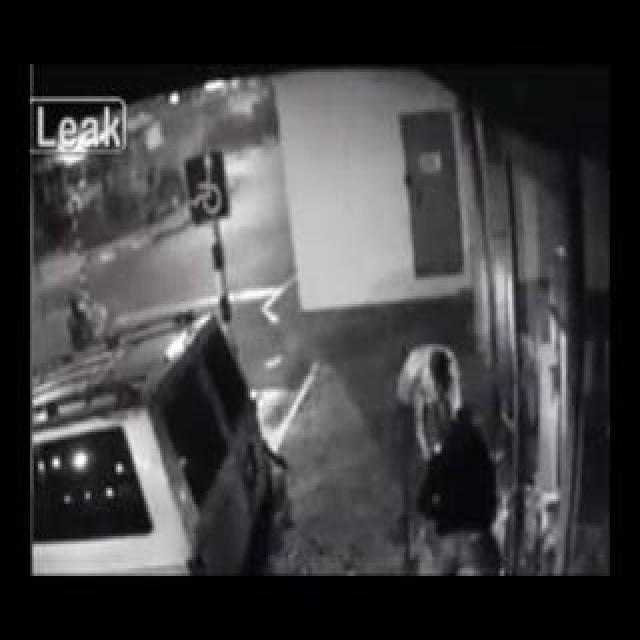thief: (364, 304, 516, 526)
